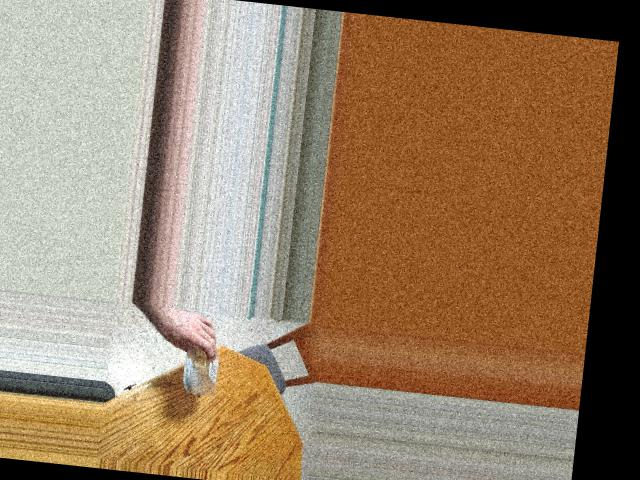cheese: (170, 323, 232, 393)
